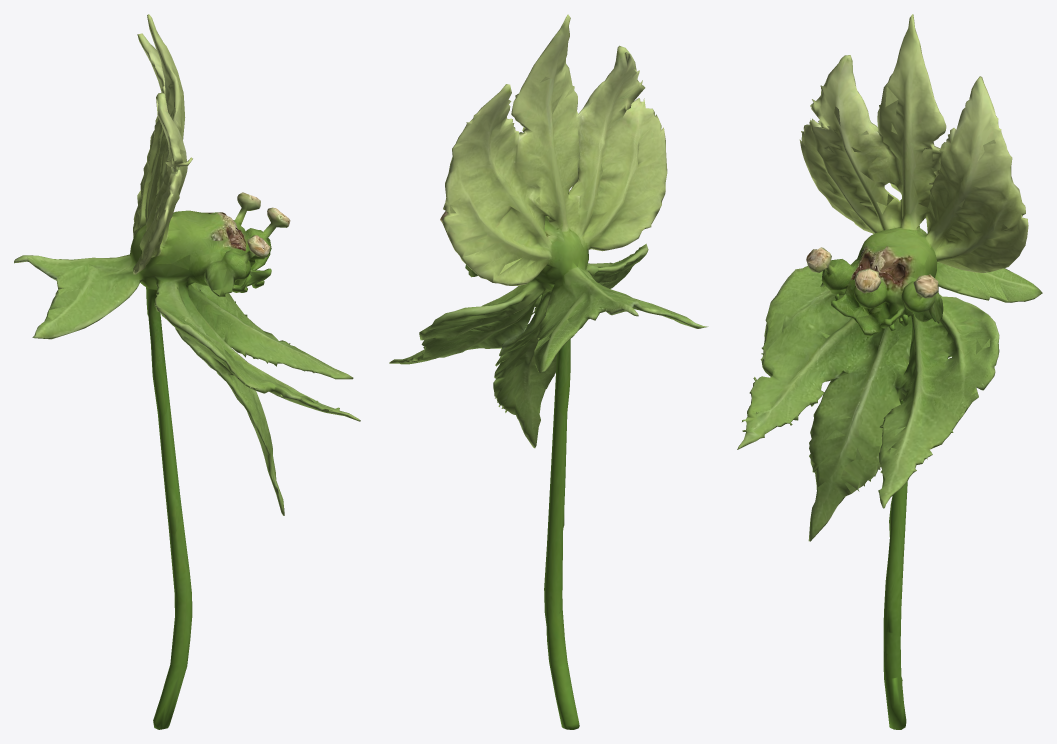
The model's file is planta_hamadryas.fbx.
The picture shows the model from 3 angles, left to right: view 1: azimuth 30°, elevation 25°; view 2: azimuth 150°, elevation 25°; view 3: azimuth 270°, elevation 25°; orthographic projection.
Visible parts, largest first — view 1: tripo_node_4dd7f083; view 2: tripo_node_4dd7f083; view 3: tripo_node_4dd7f083.
Part boxes in pixels (left/top/right/bottom): tripo_node_4dd7f083: left=14, top=14, right=360, bottom=729; tripo_node_4dd7f083: left=389, top=14, right=708, bottom=729; tripo_node_4dd7f083: left=737, top=14, right=1042, bottom=729.
Bounding box in the file's own units: 1.79 × 3.82 × 1.49.
Materials: 1 (1 with a texture image).
